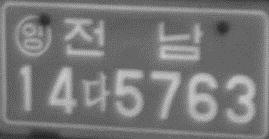1: (11, 62, 42, 112)
3: (224, 73, 258, 125)
4: (47, 66, 77, 114)
5: (113, 69, 145, 118)
6: (185, 72, 220, 123)
7: (149, 70, 181, 120)
다: (81, 72, 110, 111)
영: (14, 13, 53, 56)
전남_D: (62, 19, 205, 63)
